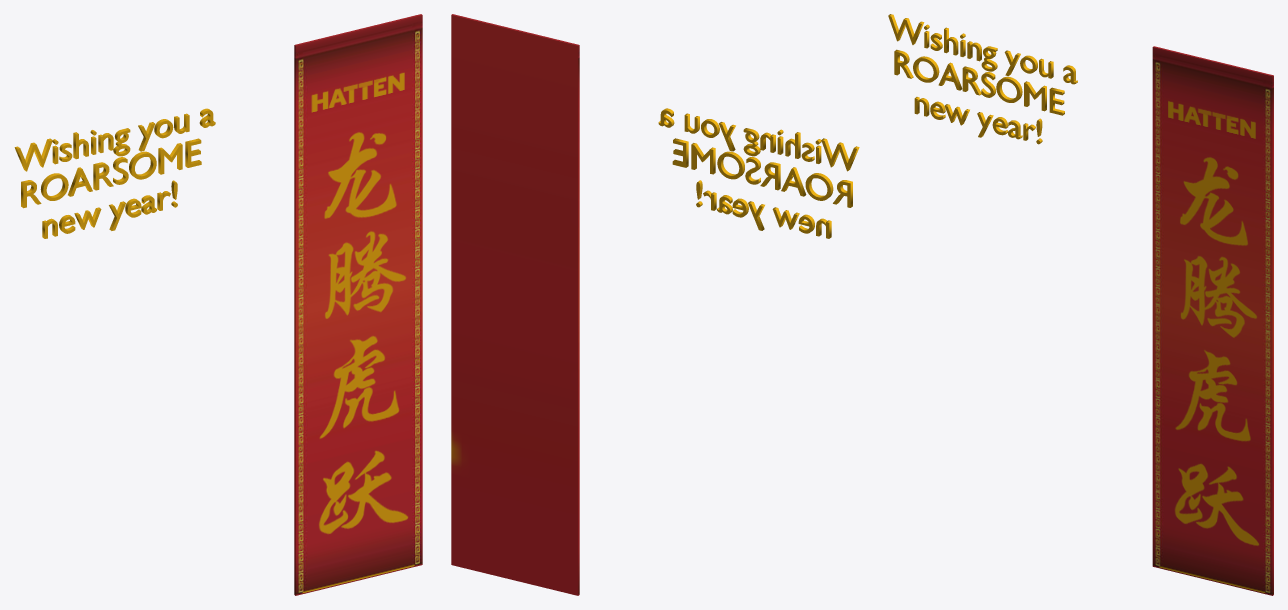
Rendered from scroll1.gltf.
3 renders of one model, left to right at view 1: azimuth 30°, elevation 25°; view 2: azimuth 150°, elevation 25°; view 3: azimuth 330°, elevation 25°, orthographic. The views are drawn at different scales.
Visible parts, largest first — view 1: ChineseScroll, Text; view 2: ChineseScroll, Text; view 3: ChineseScroll, Text.
Part boxes in pixels (<box>): ChineseScroll: <box>294,14,422,595</box>; Text: <box>14,108,215,238</box>; ChineseScroll: <box>451,14,579,595</box>; Text: <box>658,108,859,238</box>; ChineseScroll: <box>1152,46,1273,595</box>; Text: <box>888,14,1077,144</box>.
Size of the model in its own units: 5.77 by 7.47 by 0.06.
Materials: 2 (1 with a texture image).
